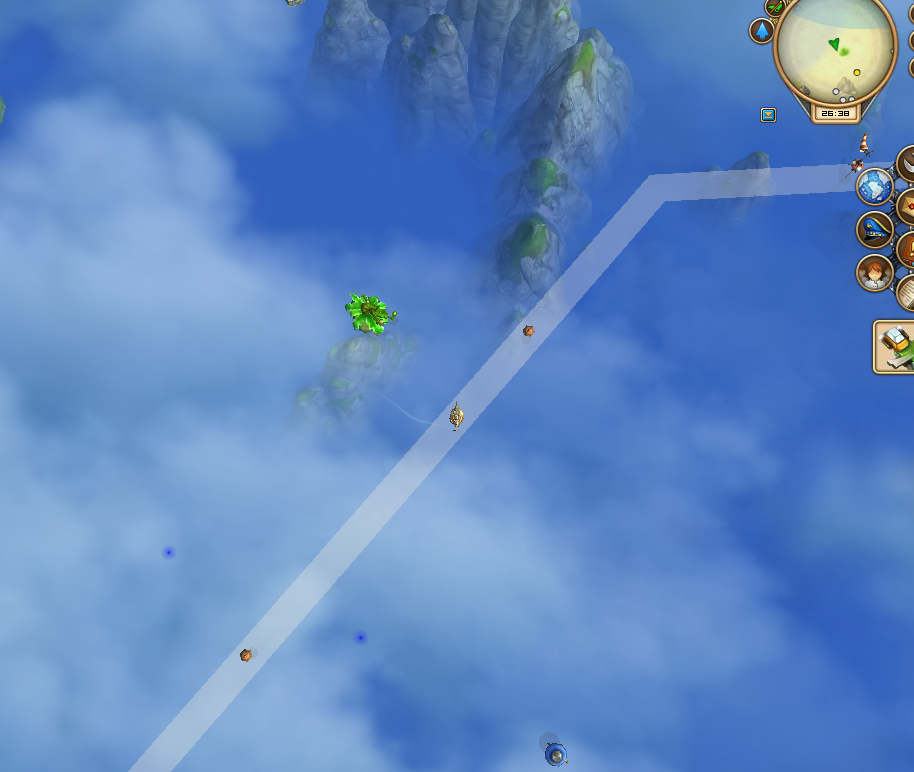dandelion-empty: (339, 290, 400, 338)
